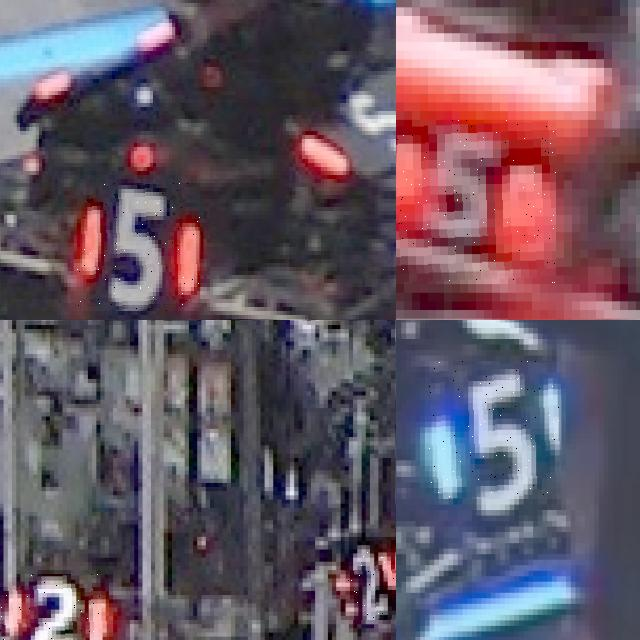B5: (425, 361, 561, 499)
R2: (0, 574, 108, 640), (340, 537, 396, 620)
R5: (396, 119, 556, 284), (77, 183, 200, 311)
